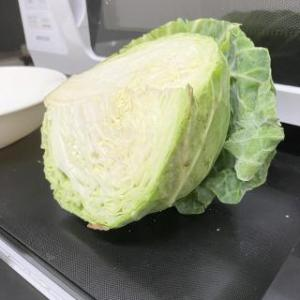cabbage: (39, 16, 286, 234)
